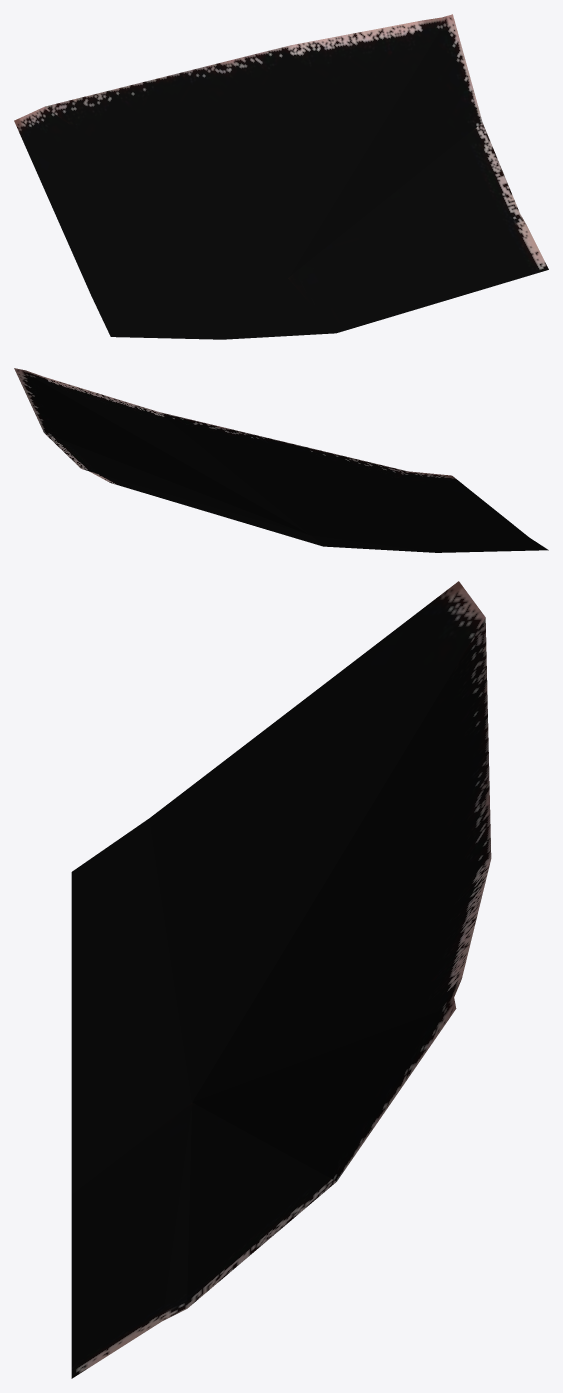
The picture shows the model from 3 angles, top to bottom: view 1: azimuth 30°, elevation 25°; view 2: azimuth 150°, elevation 25°; view 3: azimuth 270°, elevation 25°; orthographic projection. The views are drawn at different scales.
Bounding box in the file's own units: 1.67 × 0.7188 × 0.6944.
2 materials, 2 textured.
